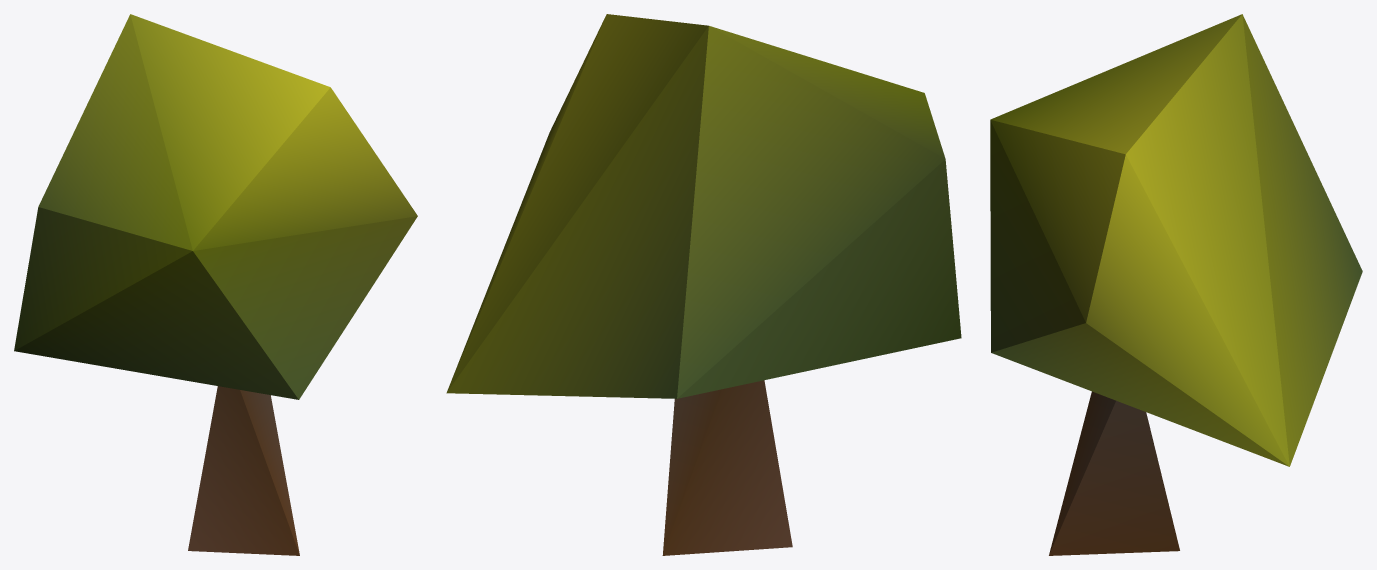
The model's file is forestTreeLOD2.glb.
3 renders of one model, left to right at view 1: azimuth 30°, elevation 25°; view 2: azimuth 150°, elevation 25°; view 3: azimuth 270°, elevation 25°, orthographic. The views are drawn at different scales.
Visible parts, largest first — view 1: ForestLOD2Mesh; view 2: ForestLOD2Mesh; view 3: ForestLOD2Mesh.
Boxes of the visible parts, bbox=[...] form: ForestLOD2Mesh: bbox=[14, 14, 417, 555]; ForestLOD2Mesh: bbox=[446, 14, 961, 555]; ForestLOD2Mesh: bbox=[990, 14, 1362, 555].
Bounding box in the file's own units: 2.94 × 3.67 × 2.46.
